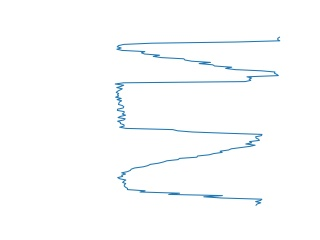distributaryChannelFill: (110, 73, 266, 141)
mouthBar: (113, 34, 282, 78)
underwaterDistributaryChannel: (114, 135, 266, 207)
